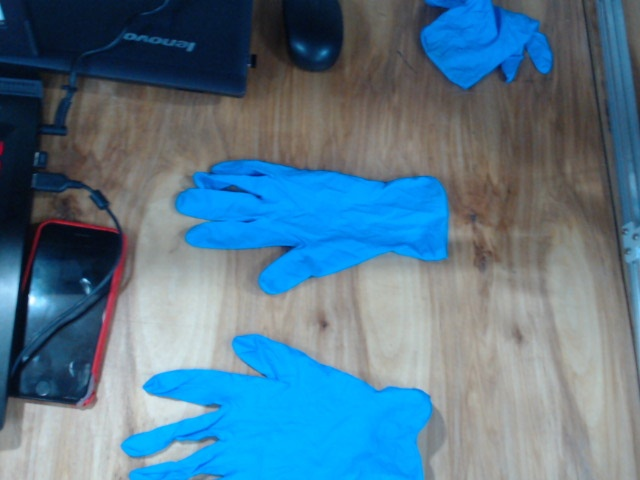medical_glove: (121, 333, 431, 480), (177, 159, 449, 294)
